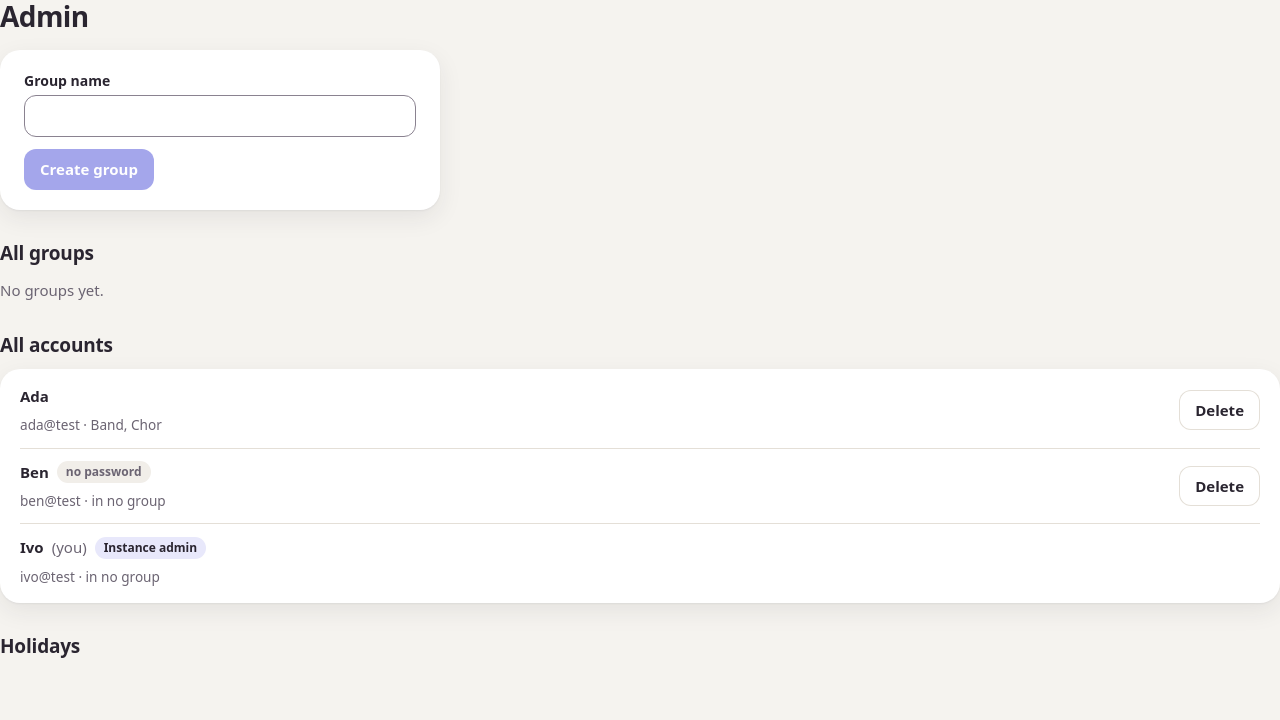
deleting needs the name typed exactly
Expected: the text "Ben" is shown, x1=20 y1=461 x2=49 y2=483
Click the button "Delete" in the row of "no password" at (1220, 486), box x1=1179 y1=466 x2=1260 y2=506
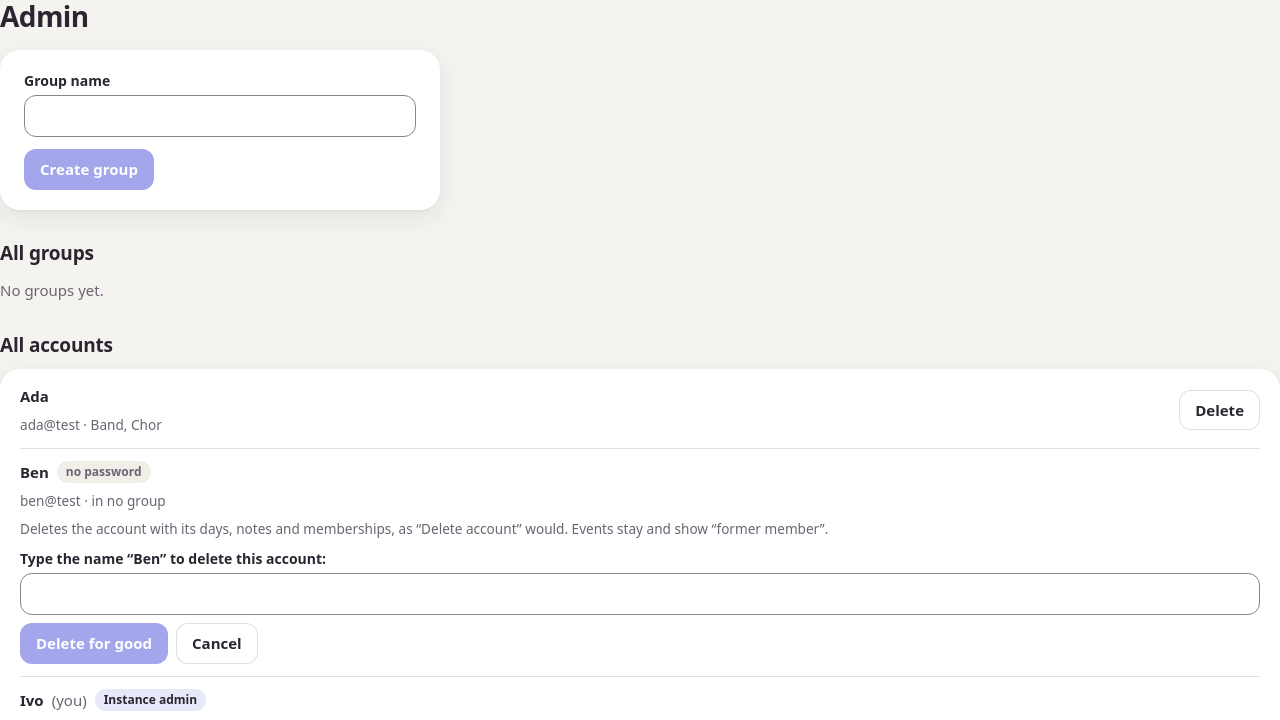
Type "ben" into the field labelled "Type the name “Ben” to delete this account:" at (640, 594), box x1=20 y1=573 x2=1260 y2=615
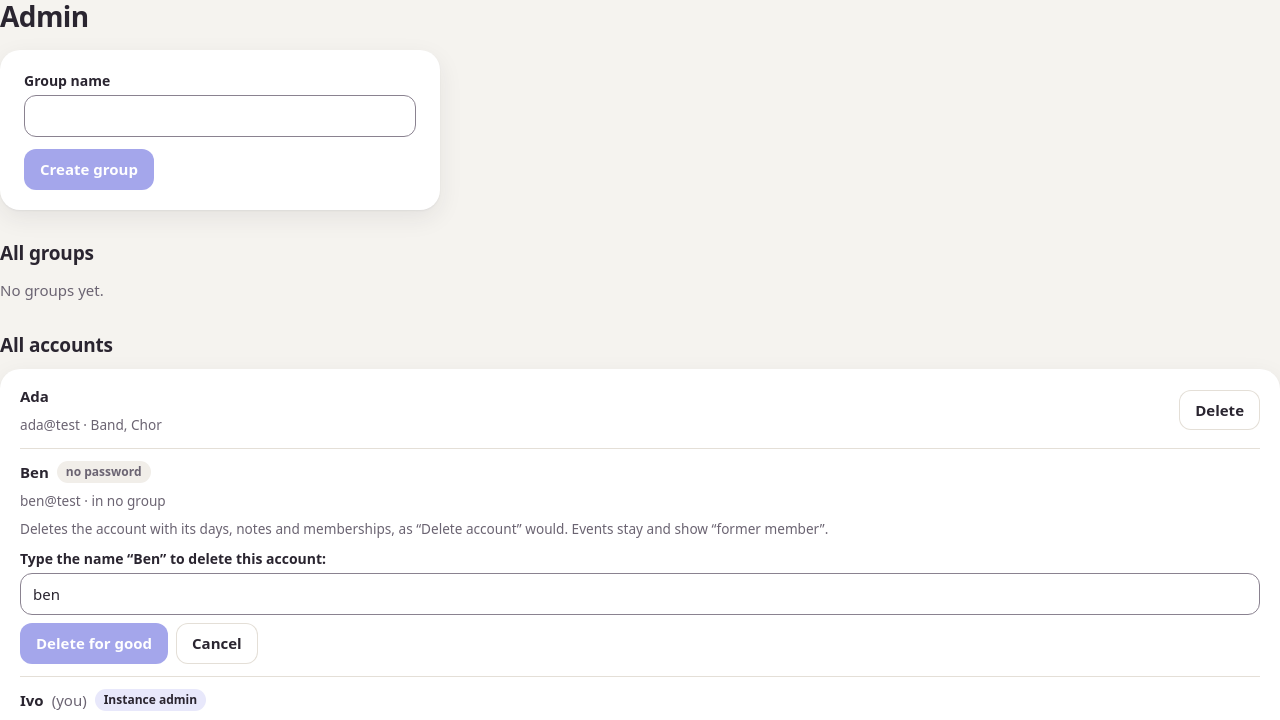
Now the button "Delete for good" is disabled, box x1=20 y1=623 x2=168 y2=664
Replace the text in the field labelled "Type the name “Ben” to delete this account:" with "Ben" at (640, 594), box x1=20 y1=573 x2=1260 y2=615
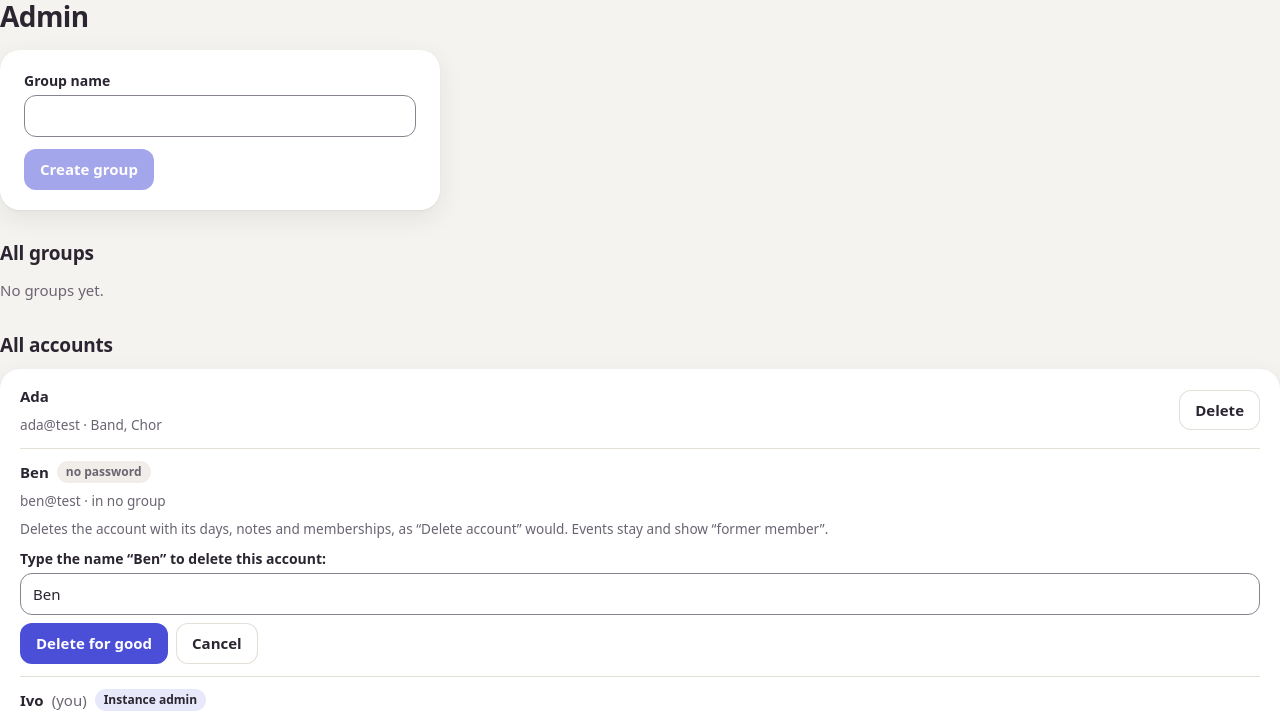
Click the button "Delete for good" at (94, 644), box x1=20 y1=623 x2=168 y2=664
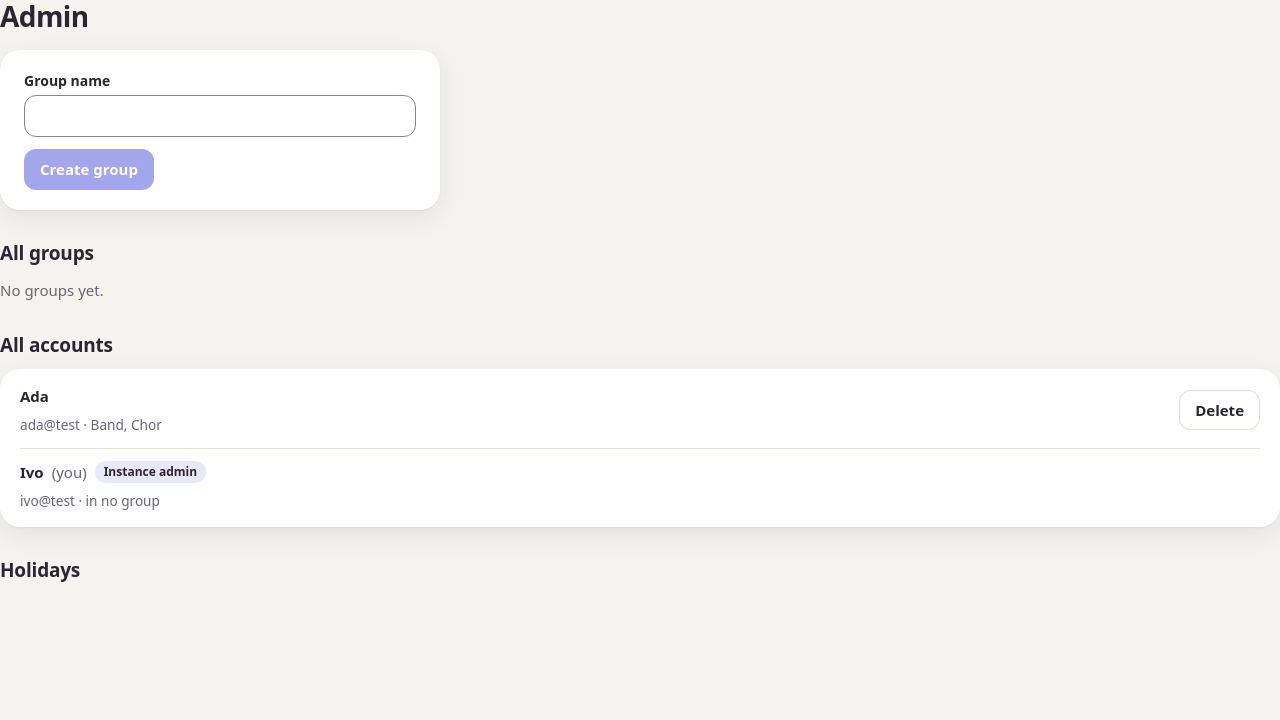
Now the text "Ben" is gone
